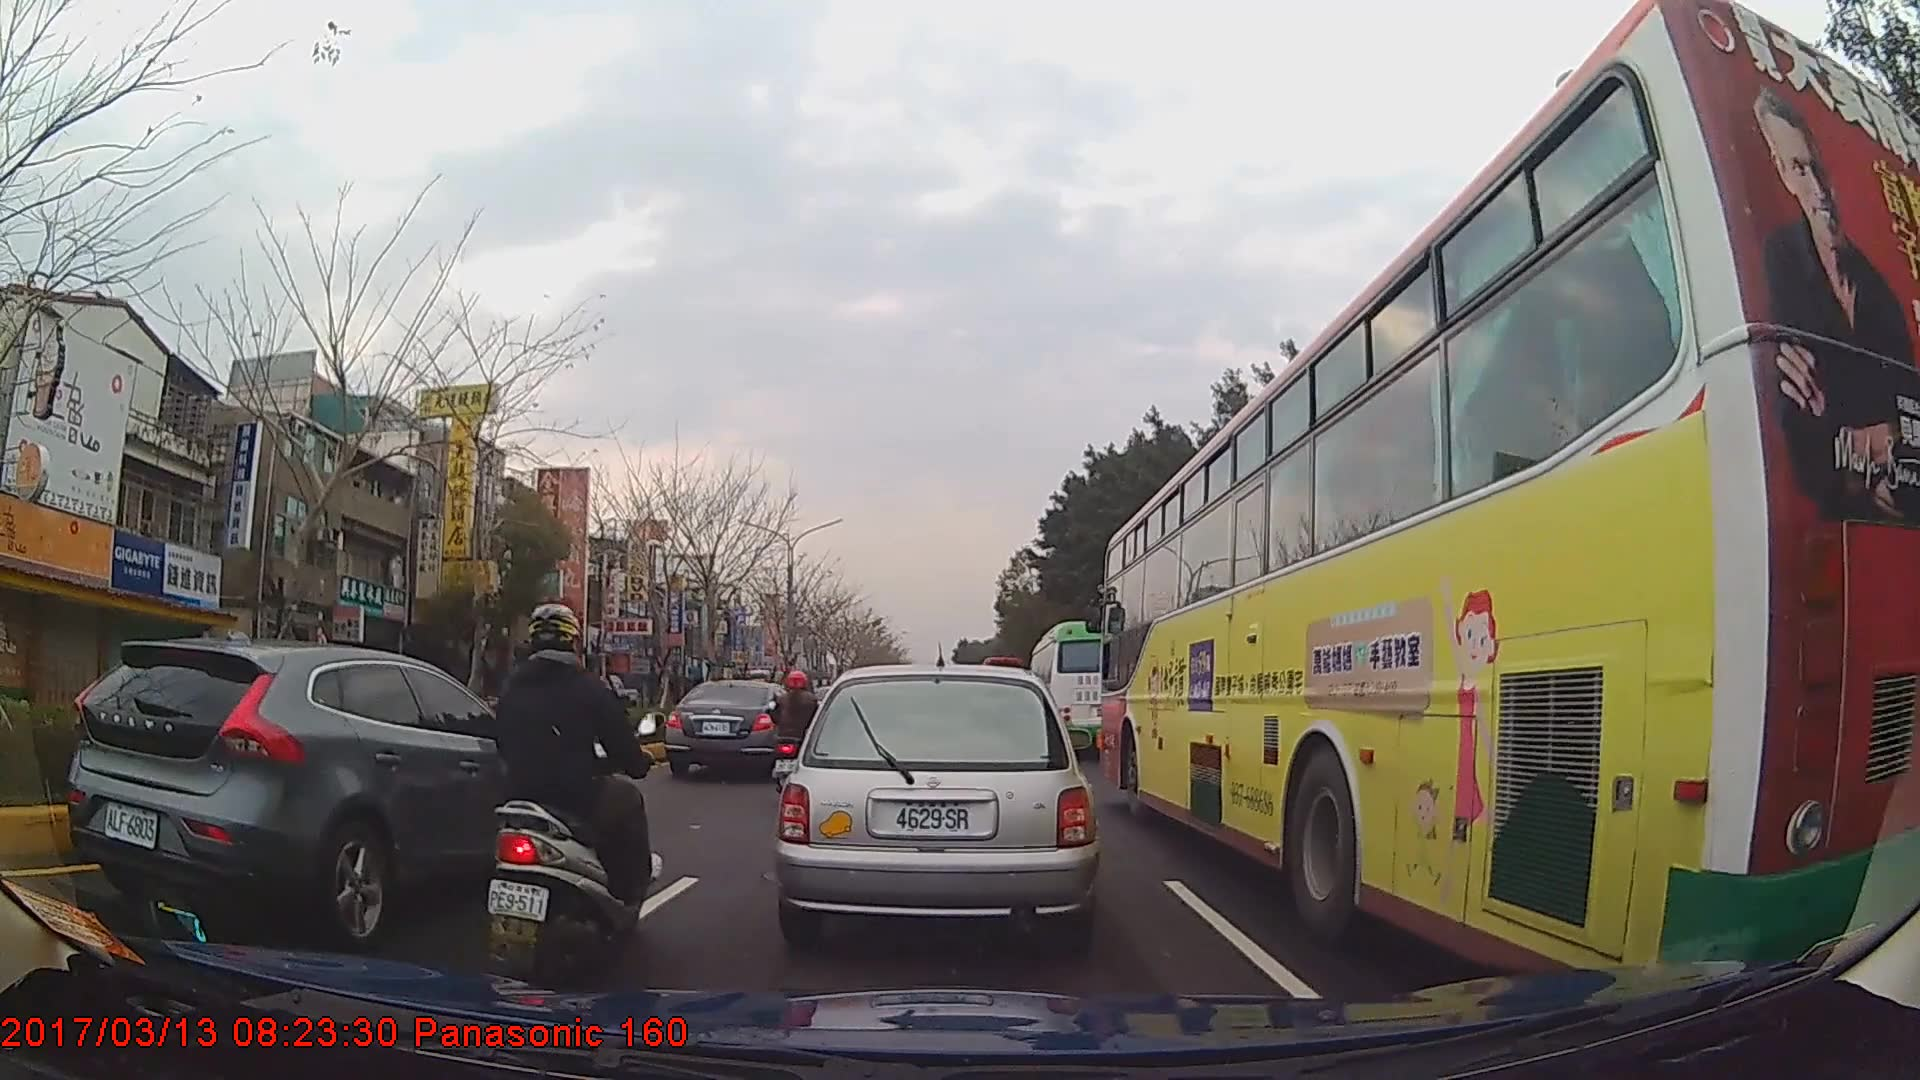rider: (487, 601, 657, 978), (769, 669, 827, 789)
vehicle: (1097, 0, 1920, 1001), (66, 635, 572, 940), (779, 659, 1101, 945), (1026, 617, 1136, 756), (664, 676, 802, 780)
